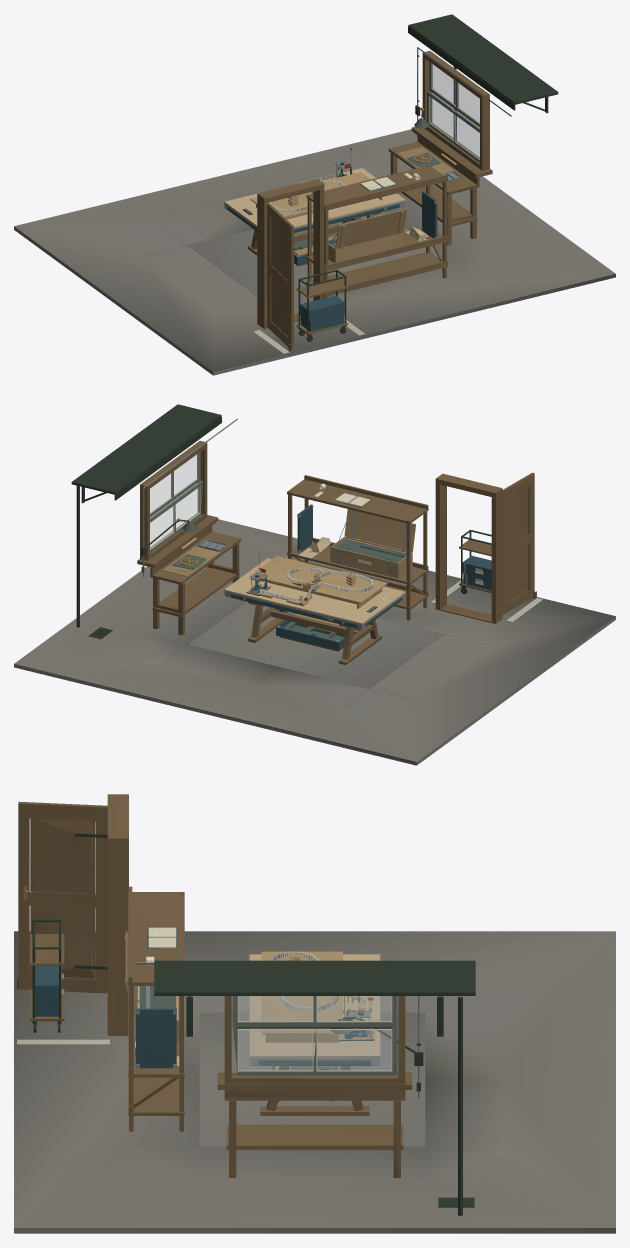
Rendered from mini.glb.
3 renders of one model, top to bottom at view 1: azimuth 30°, elevation 25°; view 2: azimuth 150°, elevation 25°; view 3: azimuth 270°, elevation 25°, orthographic. The views are drawn at different scales.
Parts seen in each view (by area): view 1: part/circuit/bridge_deck, part/circuit/landing_boards, part/workshop/window_glass, part/workshop/packing_insert; view 2: part/circuit/bridge_deck, part/circuit/landing_boards, part/workshop/window_glass, part/workshop/packing_insert; view 3: part/circuit/bridge_deck, part/circuit/landing_boards, part/workshop/window_glass, part/workshop/packing_insert.
Part boxes in pixels (box(x1,y1,x2,y2)): part/circuit/bridge_deck: box(14, 14, 615, 375); part/circuit/landing_boards: box(228, 47, 511, 353); part/workshop/window_glass: box(430, 64, 479, 158); part/workshop/packing_insert: box(294, 152, 441, 255); part/circuit/bridge_deck: box(14, 404, 615, 765); part/circuit/landing_boards: box(137, 418, 542, 664); part/workshop/window_glass: box(150, 455, 199, 548); part/workshop/packing_insert: box(172, 539, 406, 640); part/circuit/bridge_deck: box(14, 833, 615, 1233); part/circuit/landing_boards: box(17, 794, 419, 1177); part/workshop/window_glass: box(238, 996, 391, 1070); part/workshop/packing_insert: box(139, 986, 335, 1070).
Bounding box in the file's own units: 7 × 2.56 × 6.
4 materials, 4 textured.
